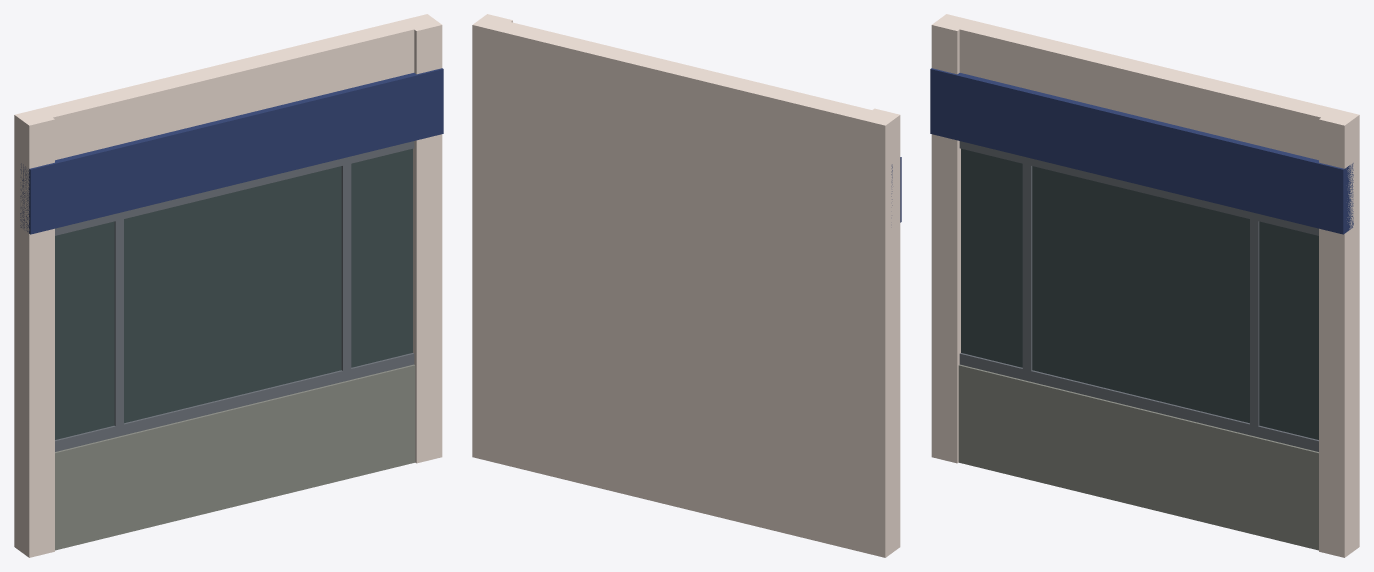
3 views of the same model, side by side, from view 1: azimuth 30°, elevation 25°; view 2: azimuth 150°, elevation 25°; view 3: azimuth 330°, elevation 25° (orthographic).
Visible parts, largest first — view 1: a1053_base-w1; view 2: a1053_base-w1; view 3: a1053_base-w1.
Part boxes in pixels (left/top/right/bottom): a1053_base-w1: left=14, top=14, right=443, bottom=557; a1053_base-w1: left=472, top=14, right=901, bottom=557; a1053_base-w1: left=930, top=14, right=1359, bottom=557.
Size of the model in its own units: 4 by 4 by 0.27.
